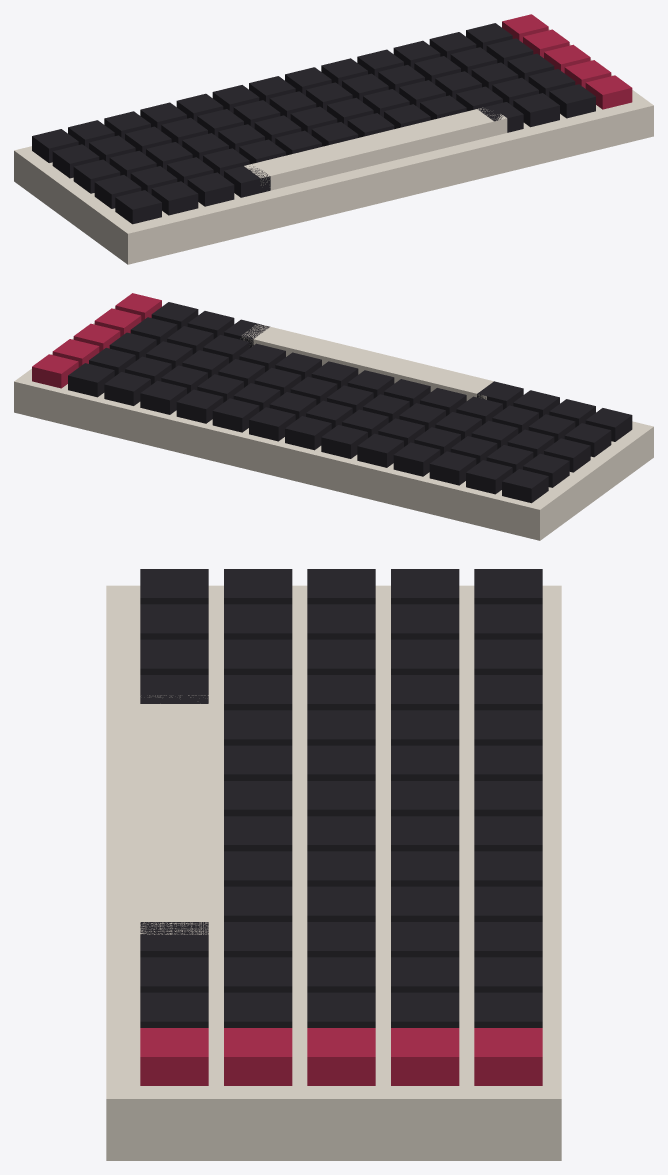
The model's file is keyboard.glb.
The picture shows the model from 3 angles, top to bottom: view 1: azimuth 30°, elevation 25°; view 2: azimuth 150°, elevation 25°; view 3: azimuth 270°, elevation 25°; orthographic projection. The views are drawn at different scales.
Parts seen in each view (by area): view 1: DRAFT_keyboard; view 2: DRAFT_keyboard; view 3: DRAFT_keyboard.
Boxes of the visible parts, <box> form: DRAFT_keyboard: <box>14,14,653,264</box>; DRAFT_keyboard: <box>14,293,653,540</box>; DRAFT_keyboard: <box>106,569,561,1160</box>.
Size of the model in its own units: 0.32 by 0.0265 by 0.12.
